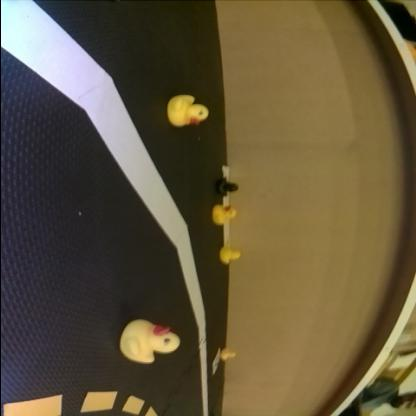Duckie: (120, 320, 178, 364), (167, 96, 207, 127), (214, 206, 236, 226), (222, 248, 240, 264), (222, 349, 235, 360)
QR code: (212, 350, 220, 374)
